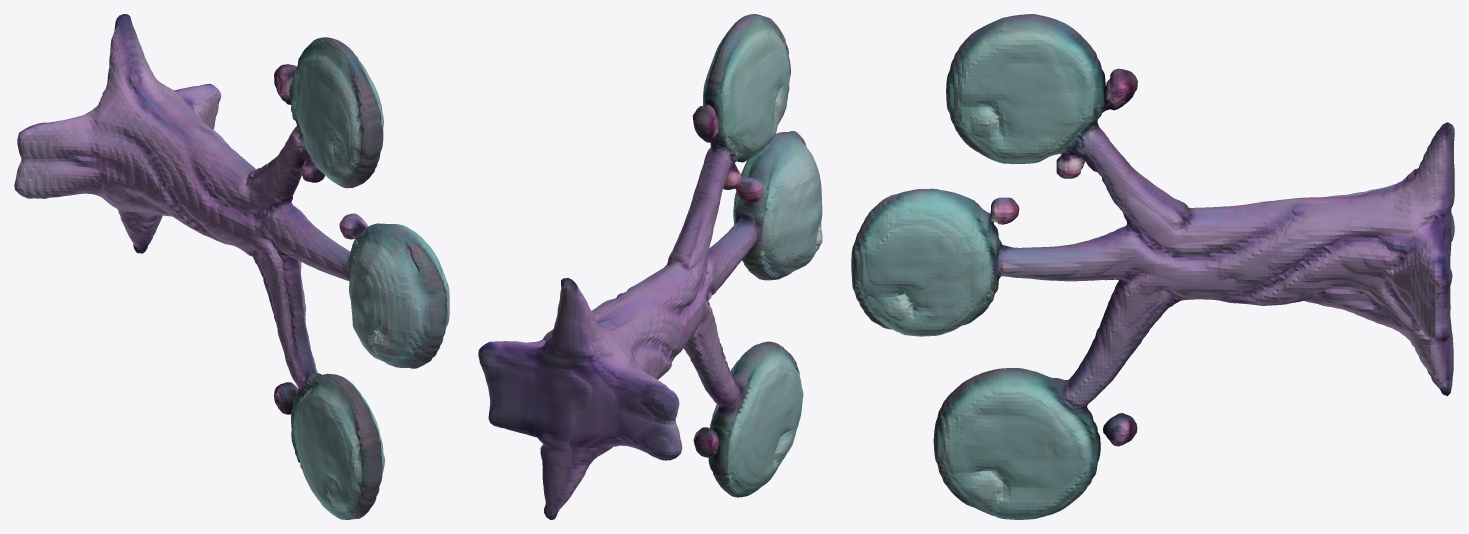
The model's file is triposr_alien_tree.glb.
3 views of the same model, side by side, from view 1: azimuth 30°, elevation 25°; view 2: azimuth 150°, elevation 25°; view 3: azimuth 270°, elevation 25° (orthographic). The views are drawn at different scales.
Visible parts, largest first — view 1: geometry_0; view 2: geometry_0; view 3: geometry_0.
Boxes of the visible parts, x1,y1,x2,y2 form: geometry_0: (14, 14, 449, 519); geometry_0: (478, 14, 822, 519); geometry_0: (851, 14, 1454, 519).
Size of the model in its own units: 0.4205 by 0.9292 by 1.
